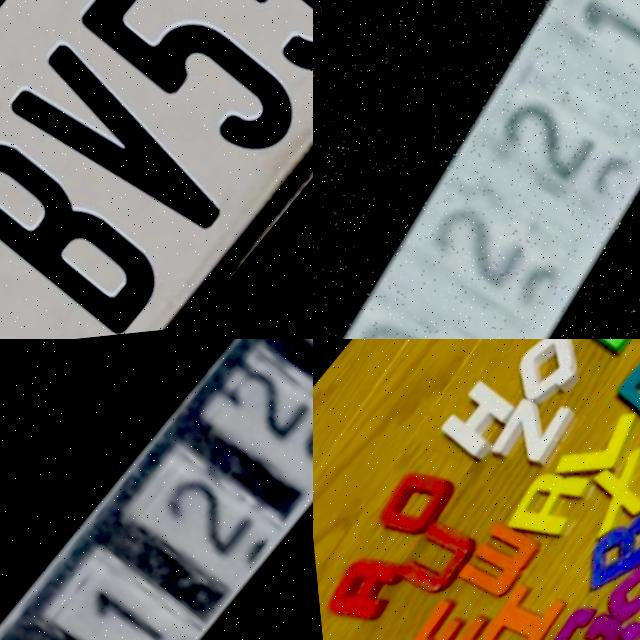0: (313, 286, 464, 339)
1: (540, 0, 640, 108), (56, 568, 169, 640)
2: (461, 64, 625, 229), (387, 168, 542, 323), (130, 456, 262, 588), (196, 345, 313, 469)
3: (128, 0, 313, 116)
5: (63, 0, 311, 195)
A: (313, 538, 403, 639)
B: (0, 117, 168, 339), (560, 499, 640, 615)
E: (380, 585, 491, 640)
F: (568, 339, 640, 366)
G: (522, 598, 622, 640)
H: (428, 375, 524, 471)
I: (459, 571, 572, 640)
L: (543, 392, 640, 499)
M: (598, 342, 640, 440)
O: (364, 456, 459, 551)
Q: (497, 339, 600, 419)
R: (490, 462, 594, 567)
S: (589, 553, 640, 640)
U: (389, 515, 476, 602)
V: (0, 36, 234, 279)
W: (443, 518, 535, 610)
X: (563, 440, 640, 546)
Z: (476, 388, 574, 486)
